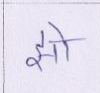e_matra: (42, 21, 68, 40)
